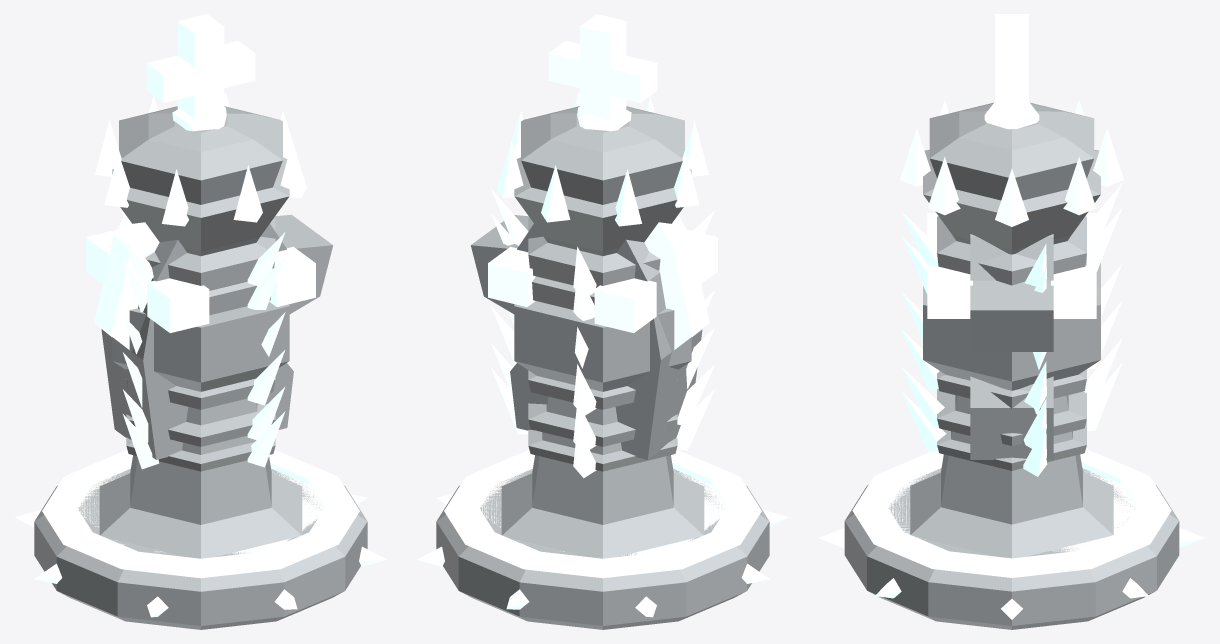
The model's file is ice.glb.
The picture shows the model from 3 angles, left to right: view 1: azimuth 30°, elevation 25°; view 2: azimuth 150°, elevation 25°; view 3: azimuth 270°, elevation 25°; orthographic projection.
Visible parts, largest first — view 1: K, disc, R, N, Q, B, P; view 2: K, disc, R, N, Q, B, P; view 3: disc, K, R, N, Q, B, P.
Part boxes in pixels (left/top/right/bottom): K: left=119, top=14, right=285, bottom=524; disc: left=15, top=450, right=386, bottom=629; R: left=86, top=229, right=315, bottom=409; N: left=94, top=214, right=333, bottom=471; Q: left=95, top=92, right=306, bottom=315; B: left=99, top=245, right=302, bottom=558; P: left=123, top=386, right=285, bottom=446; K: left=490, top=14, right=714, bottom=524; disc: left=417, top=450, right=788, bottom=629; R: left=488, top=229, right=717, bottom=415; N: left=470, top=215, right=714, bottom=478; Q: left=491, top=92, right=715, bottom=320; B: left=501, top=245, right=714, bottom=558; P: left=491, top=343, right=715, bottom=449; disc: left=818, top=449, right=1205, bottom=629; K: left=901, top=14, right=1122, bottom=524; R: left=901, top=213, right=1122, bottom=414; N: left=901, top=234, right=1122, bottom=476; Q: left=900, top=100, right=1123, bottom=293; B: left=901, top=242, right=1122, bottom=558; P: left=901, top=338, right=1122, bottom=448.
Bounding box in the file's own units: 1.02 × 1.58 × 1.02.
